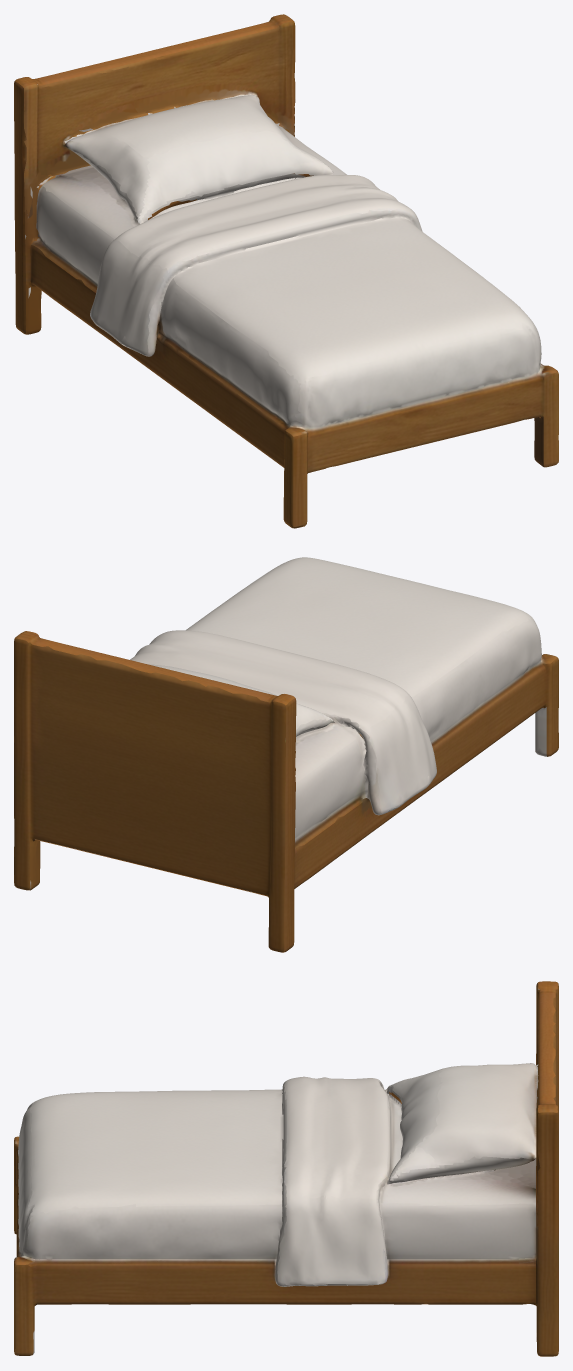
File: 469629c1-670a-4445-a095-818a071aeae9_textured_mesh.glb
The picture shows the model from 3 angles, top to bottom: view 1: azimuth 30°, elevation 25°; view 2: azimuth 150°, elevation 25°; view 3: azimuth 270°, elevation 25°; orthographic projection.
Visible parts, largest first — view 1: tmpgigx6qfr.ply; view 2: tmpgigx6qfr.ply; view 3: tmpgigx6qfr.ply.
Boxes of the visible parts, bbox=[...] form: tmpgigx6qfr.ply: bbox=[14, 14, 558, 528]; tmpgigx6qfr.ply: bbox=[14, 557, 558, 952]; tmpgigx6qfr.ply: bbox=[14, 981, 558, 1356].
Bounding box in the file's own units: 1.24 × 0.9789 × 1.96.
Materials: 1 (1 with a texture image).
